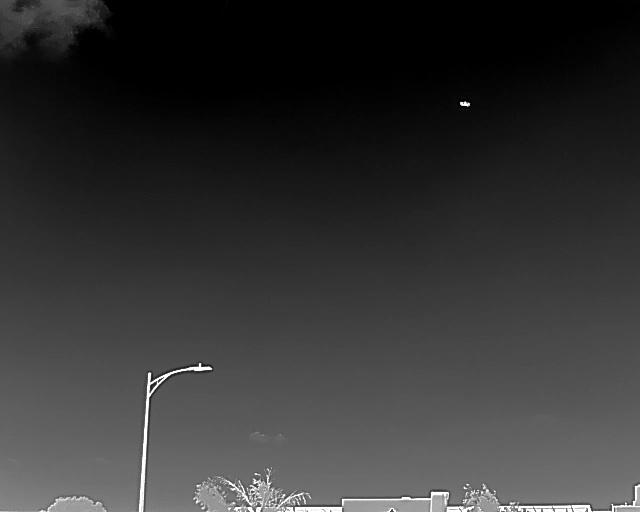fpv-drone: (459, 100, 470, 107)
